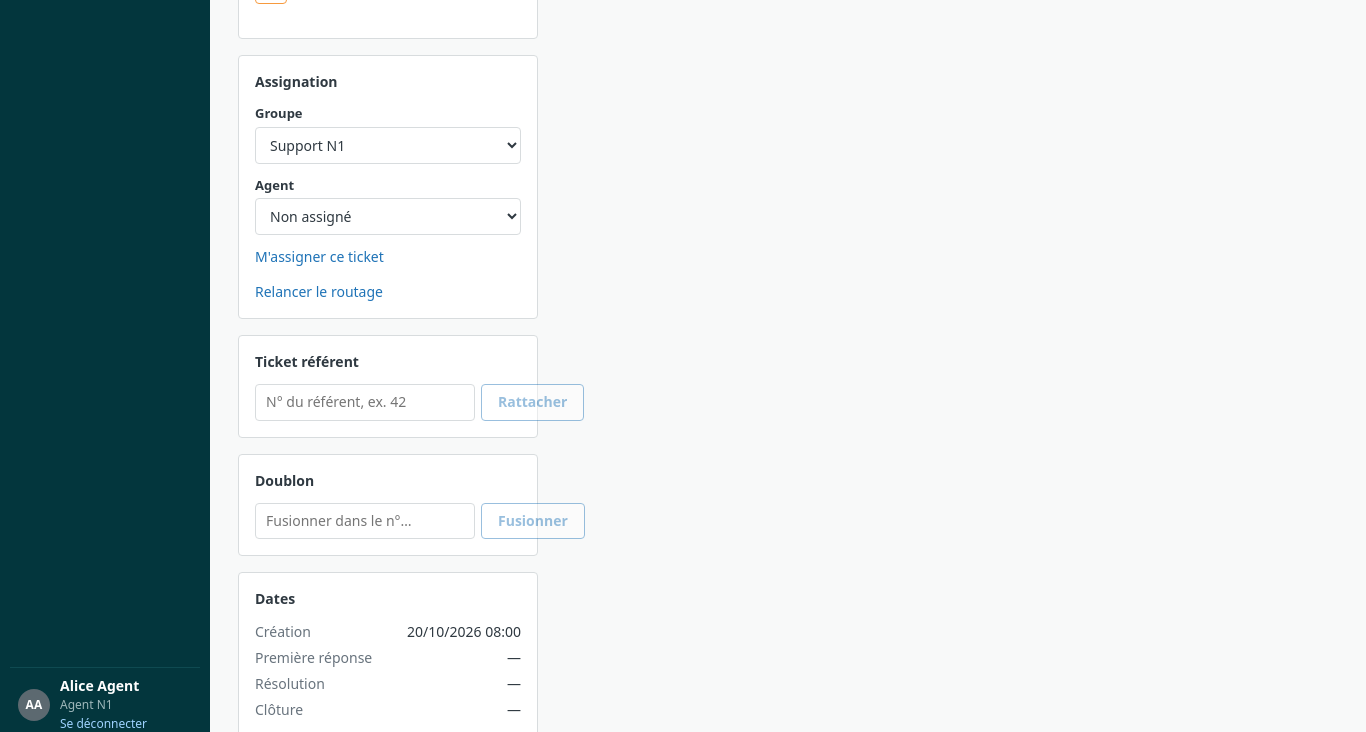
Test: fusion de doublons › fusionne dans le ticket indiqué après confirmation et y bascule
(page scrolled)
In the field named "Numéro du ticket à conserver": (365, 521) [255, 503, 475, 539], type "7"
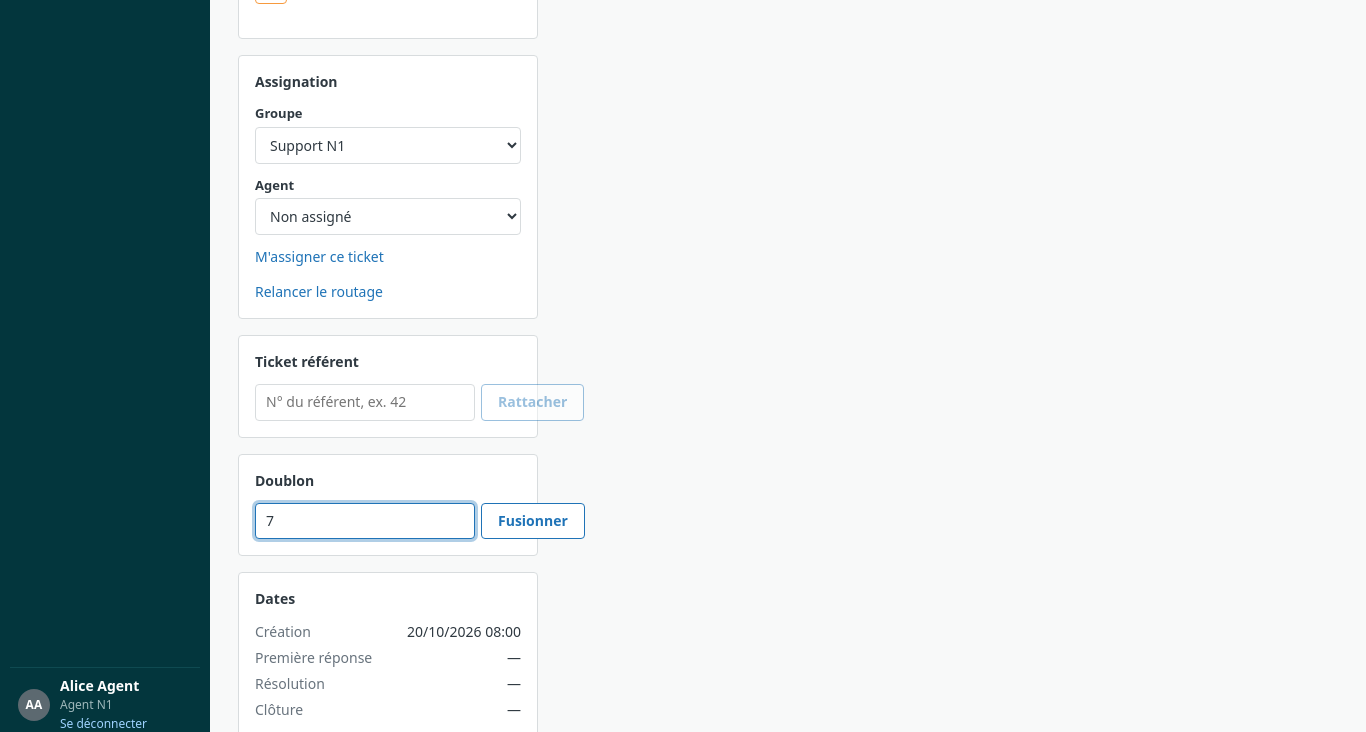
Click the button "Fusionner": click(533, 521) [481, 503, 585, 539]
(page scrolled)
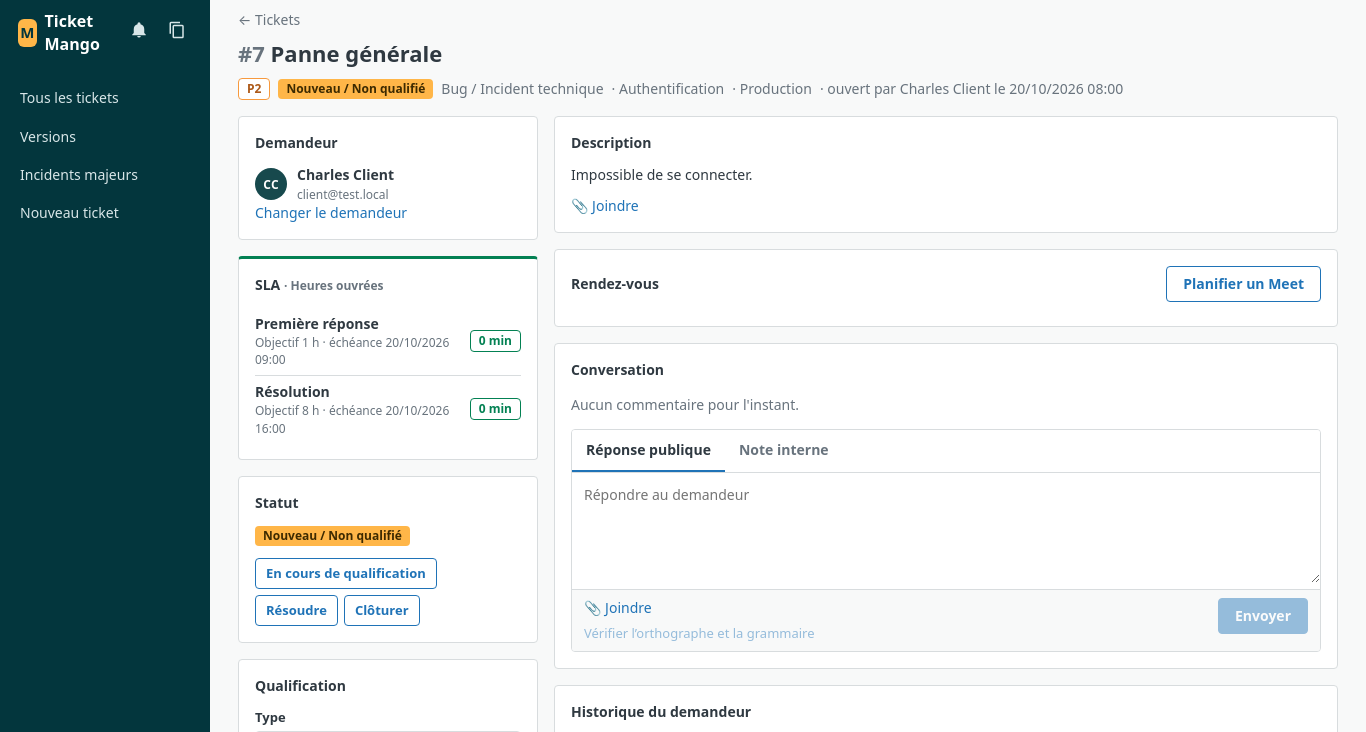
expect the heading "#7 Panne générale" is shown: met, box [238, 38, 442, 68]
